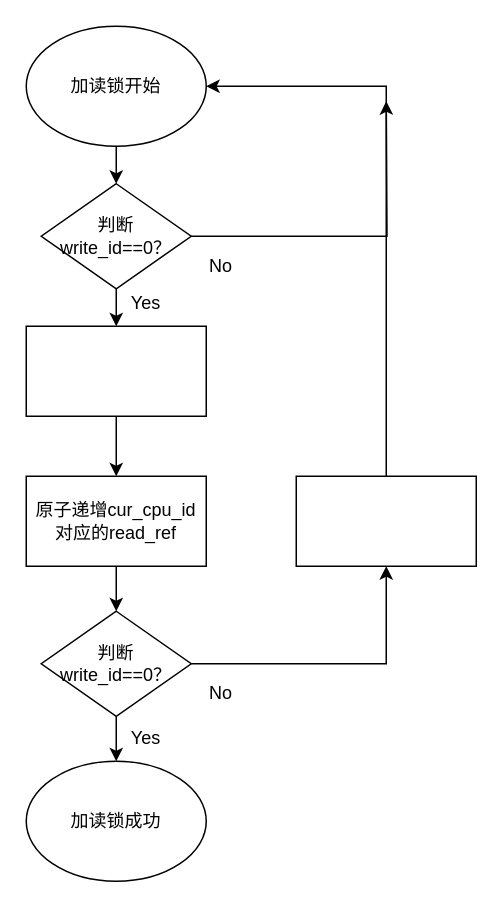
Image size: 503x908. Some labels were removed from this diagram. Here are the shapes that lost their labels. From the top down, the centre of each, then its label:
the point at 115,370: 获取cpu_id,计为cur_cpu_id
the point at 385,520: 原子递减cur_cpu_id对应的read_ref
